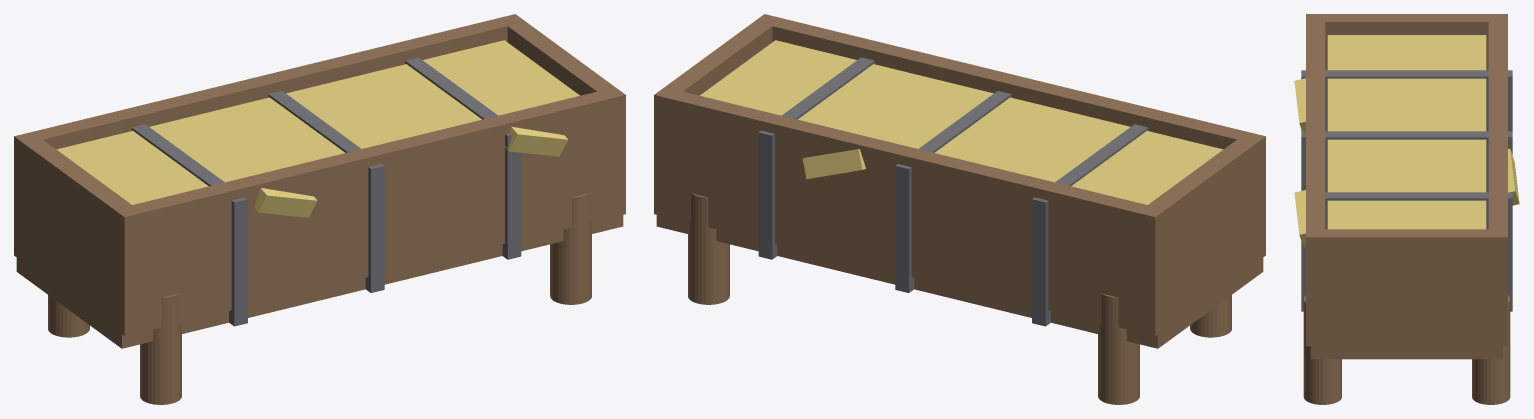
File: feeding_trough.glb
The picture shows the model from 3 angles, left to right: view 1: azimuth 30°, elevation 25°; view 2: azimuth 150°, elevation 25°; view 3: azimuth 270°, elevation 25°; orthographic projection. The views are drawn at different scales.
Visible parts, largest first — view 1: Cube.001, Cube.008, Cube.002, Cube.003, Cube, Cylinder, Cylinder.001, Cube.006, Cube.005, Cube.004, Cube.007, Cube.009 (+2 smaller); view 2: Cube.002, Cube.008, Cube.001, Cube.003, Cube, Cylinder.002, Cylinder.003, Cube.007, Cube.006, Cube.005, Cube.004, Cube.010 (+1 smaller); view 3: Cube.008, Cube.004, Cube.002, Cube.001, Cube, Cube.003, Cube.007, Cube.006, Cube.005, Cylinder.001, Cylinder.003, Cube.011 (+2 smaller).
Part boxes in pixels (x1,y1,x2,y2): Cube.001: (114, 87, 625, 336); Cube.008: (56, 40, 579, 204); Cube.002: (14, 14, 525, 261); Cube.003: (24, 139, 142, 336); Cube: (16, 215, 623, 348); Cylinder: (140, 293, 181, 404); Cylinder.001: (550, 193, 591, 304); Cube.006: (268, 91, 384, 292); Cube.005: (131, 124, 247, 326); Cube.004: (498, 14, 625, 99); Cube.007: (405, 57, 521, 259); Cube.009: (254, 188, 317, 217); Cube.002: (654, 87, 1165, 336); Cube.008: (700, 40, 1223, 204); Cube.001: (754, 14, 1265, 262); Cube.003: (1137, 139, 1255, 334); Cube: (656, 215, 1263, 348); Cylinder.002: (1098, 293, 1139, 404); Cylinder.003: (688, 193, 729, 304); Cube.007: (758, 57, 874, 259); Cube.006: (895, 91, 1011, 292); Cube.005: (1032, 124, 1148, 326); Cube.004: (654, 14, 782, 99); Cube.010: (802, 149, 865, 179); Cube.008: (1327, 35, 1486, 229); Cube.004: (1309, 229, 1506, 346); Cube.002: (1488, 14, 1507, 346); Cube.001: (1306, 14, 1325, 346); Cube: (1311, 333, 1502, 359); Cube.003: (1306, 14, 1507, 70); Cube.007: (1301, 192, 1512, 311); Cube.006: (1301, 131, 1512, 192); Cube.005: (1301, 70, 1512, 131); Cylinder.001: (1303, 295, 1341, 404); Cylinder.003: (1472, 295, 1510, 404); Cube.011: (1294, 190, 1305, 247).
Size of the model in its own units: 2.2 by 0.825 by 0.937.
